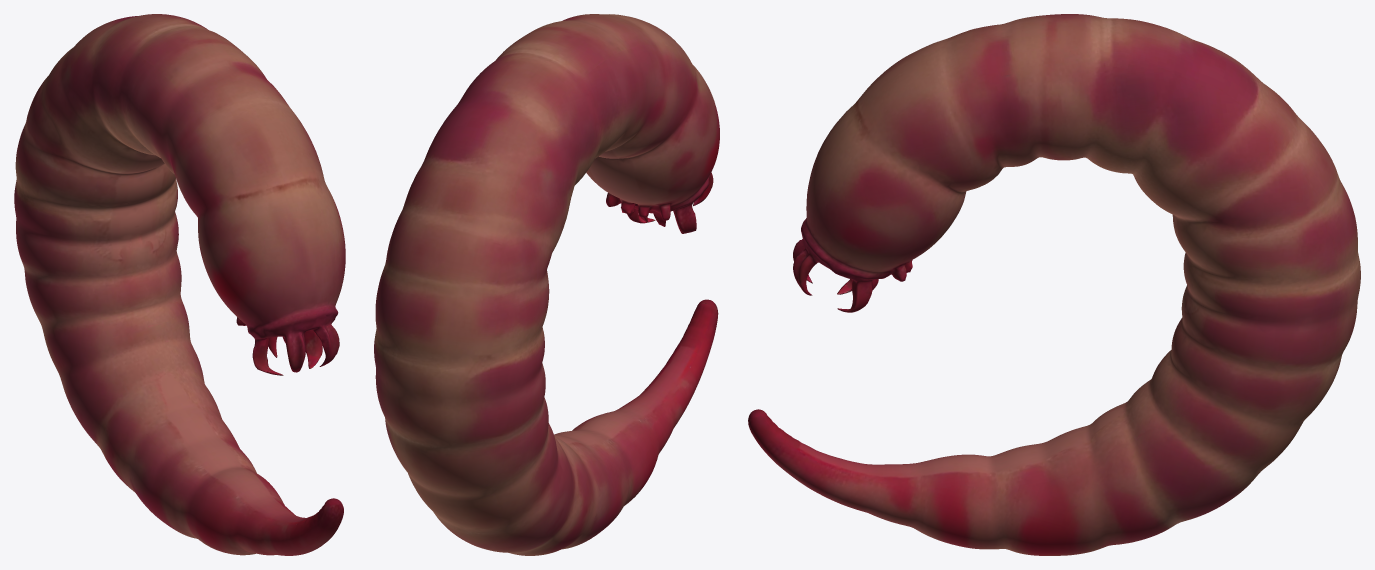
File: hookworm.glb
3 renders of one model, left to right at view 1: azimuth 30°, elevation 25°; view 2: azimuth 150°, elevation 25°; view 3: azimuth 270°, elevation 25°, orthographic. The views are drawn at different scales.
Parts seen in each view (by area): view 1: model; view 2: model; view 3: model.
Part boxes in pixels (x1,y1,x2,y2): model: (14, 14, 345, 555); model: (374, 14, 719, 555); model: (748, 14, 1360, 555).
Size of the model in its own units: 0.551 by 1.81 by 1.9.
Materials: 1 (1 with a texture image).
